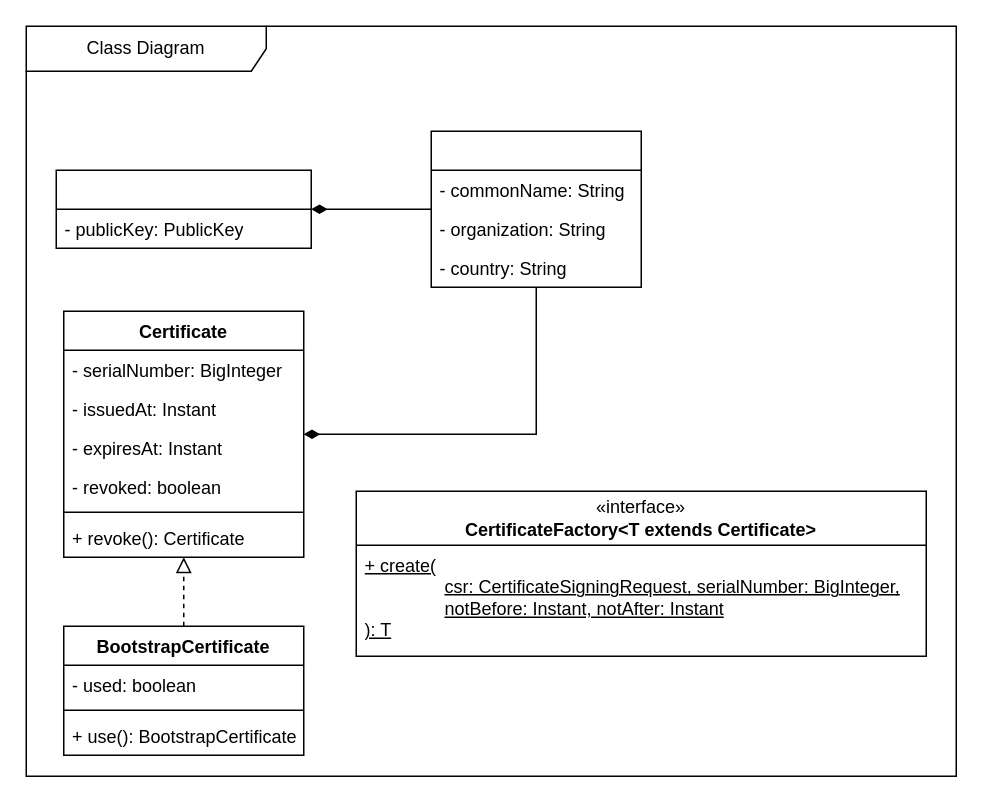
Image size: 983x803. Some labels were removed from this diagram. The shapes that lost their labels are listed below. From the top down, each one's box as (x1, y1, x2, y2) in pixels, then its label:
(55, 169, 311, 248): CertificateSigningRequest
(430, 130, 641, 287): CertificateSubject
